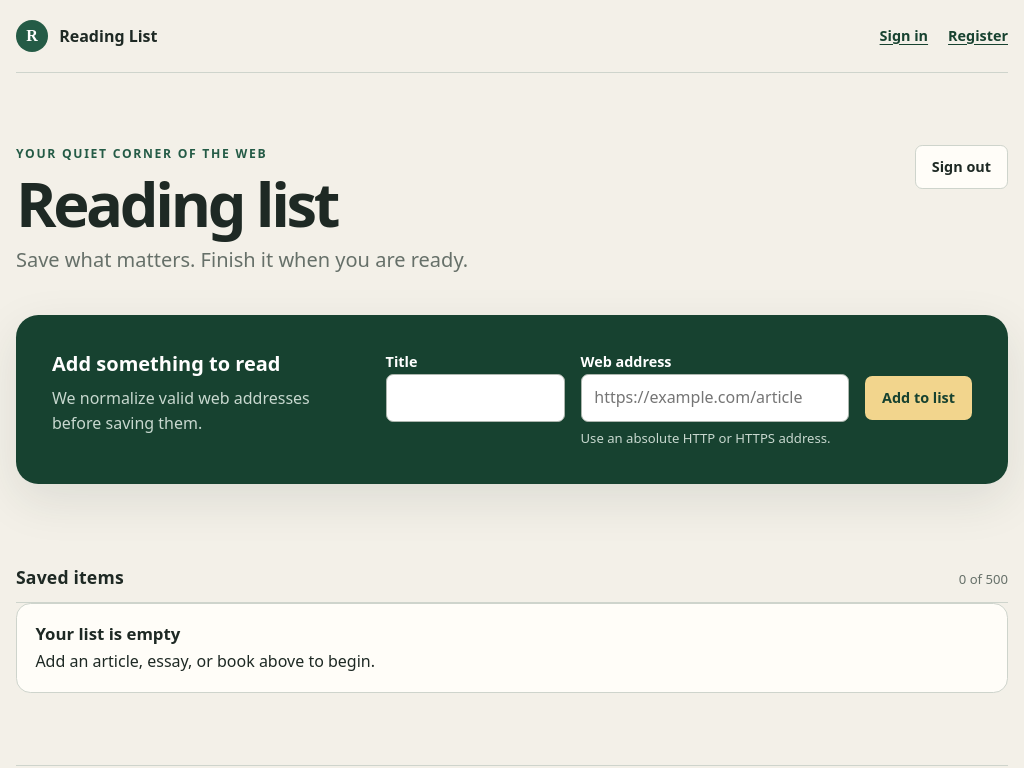
Test: reading-list mutations › creates with a trimmed title and canonical URL through the generated operation
The width and height of the screenshot is (1024, 768).
Expected: the heading "Your list is empty" is shown, [35, 622, 180, 644]
In the field labelled "Title": [475, 398] box [386, 374, 564, 422], type "  Normalized title  "
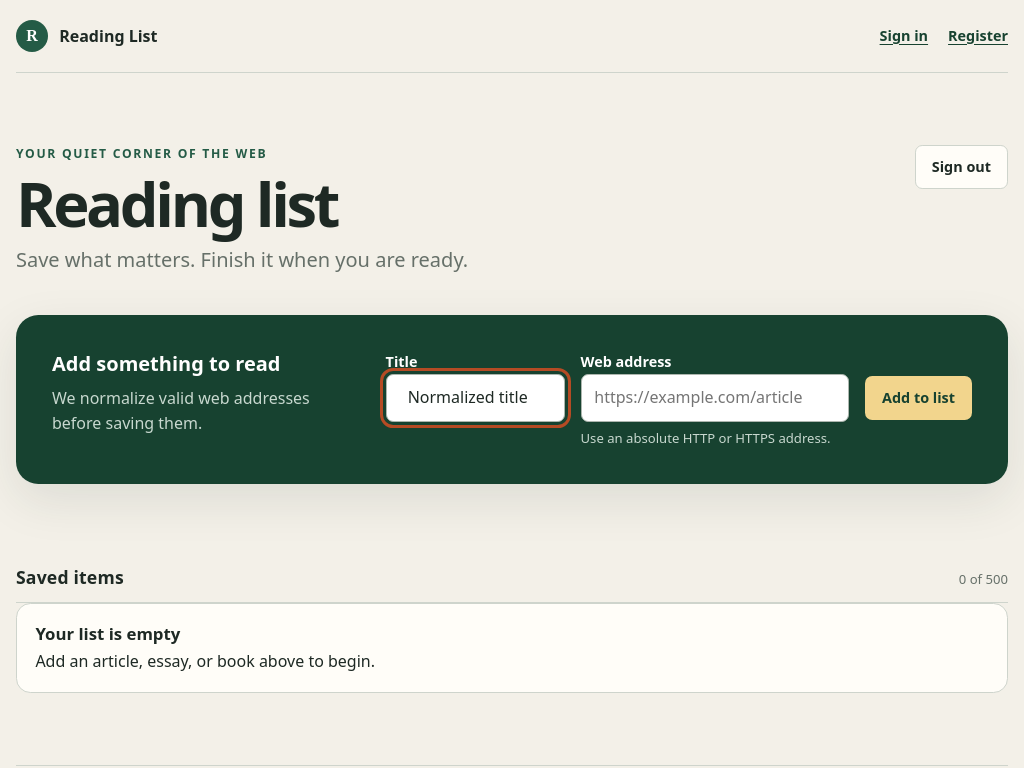
In the field labelled "Web address": [715, 398] box [580, 374, 849, 422], type "HTTPS://Example.Test/path"
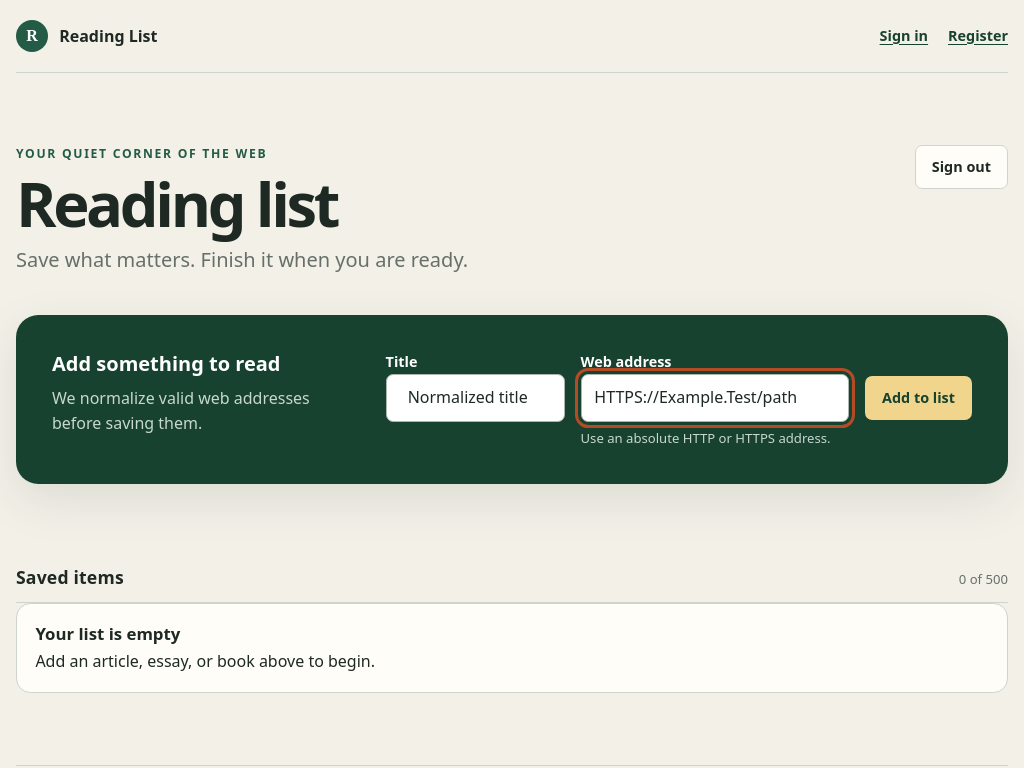
Click the button "Add to list": [918, 398] box [865, 376, 972, 420]
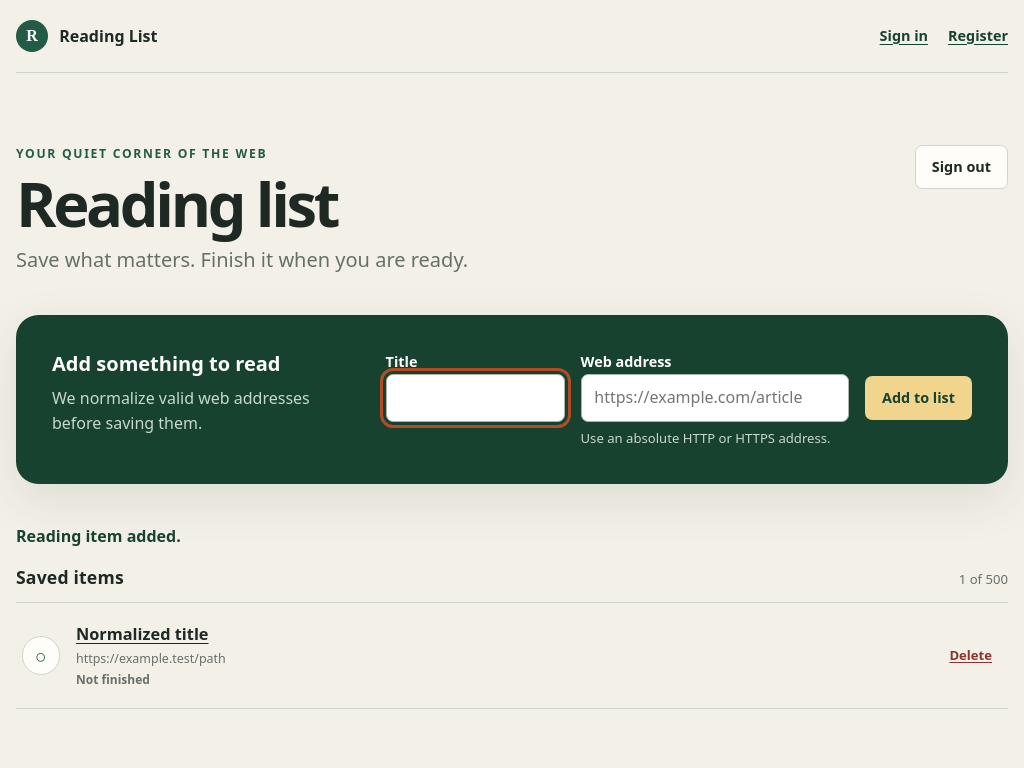
Expected: the text "Reading item added." is shown, [16, 525, 181, 547]
Expected: the link "Normalized title" is shown, [76, 622, 371, 644]
